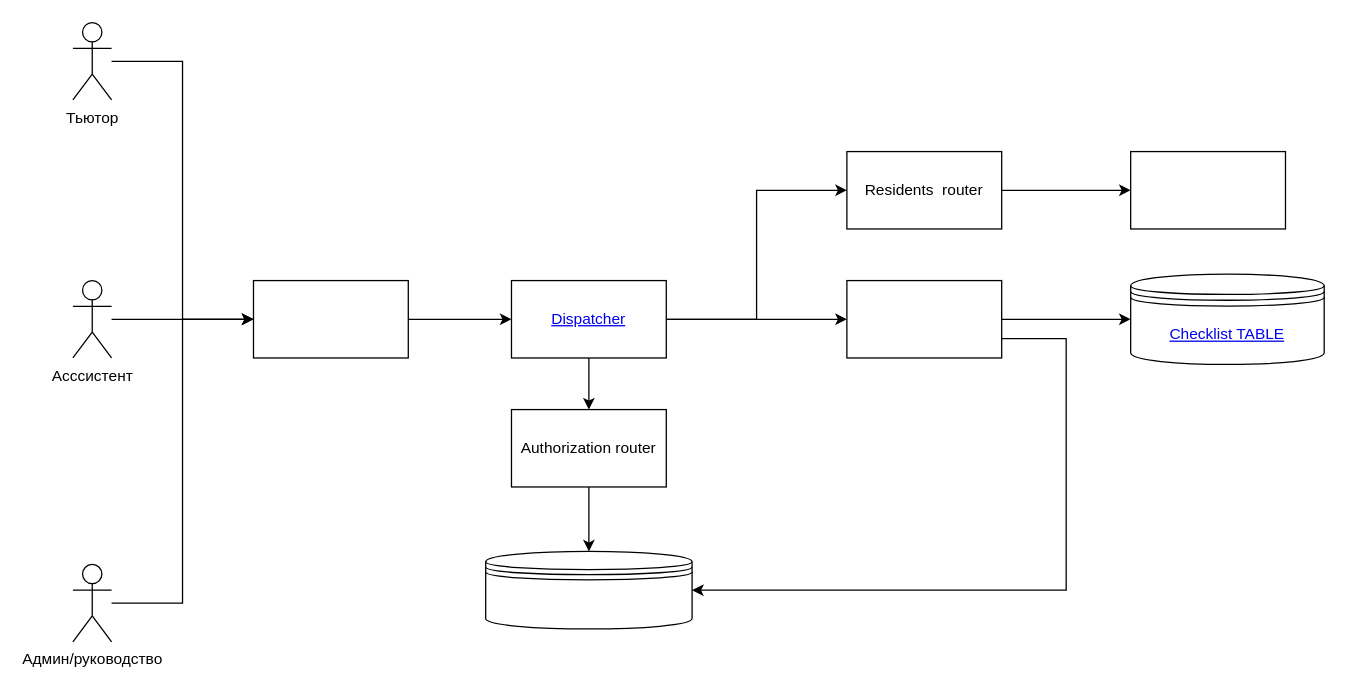
Some shapes in this 1347 by 691 pixel diagram are drawn without their labels. The centre of each missing label's shape, as x and y in pixels:
Checklists router: pixel 924 318
Employees TABLE: pixel 588 589
Parse ALFACRM: pixel 1207 189
Telegram: pixel 330 318
